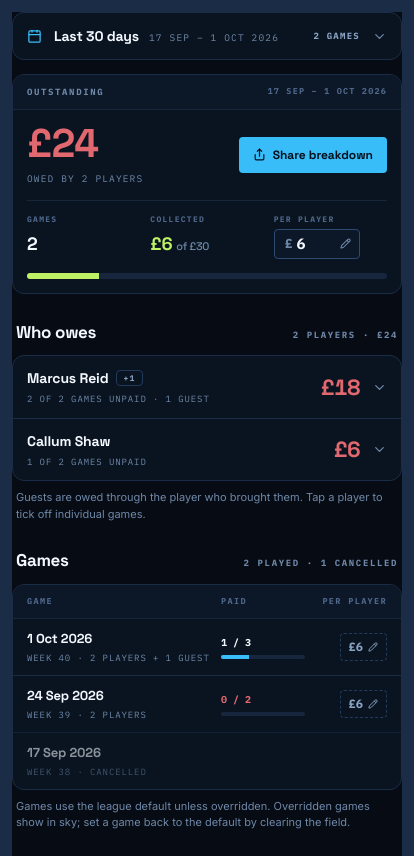
Test: AdminMoneyView › overrides a game cost and clears it with an empty field
Click the button named "Cost per player for week 39" at point(363, 704), box [340, 690, 387, 718]
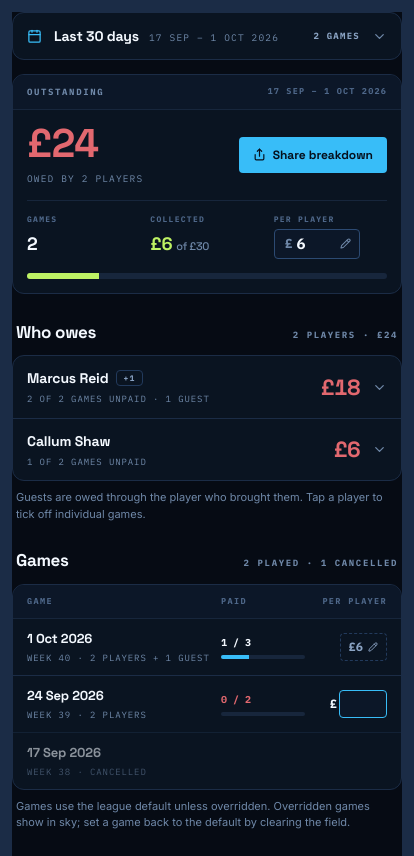
Type "4.5" into the number field named "Cost per player for week 39" at point(363, 704), box [339, 690, 387, 718]
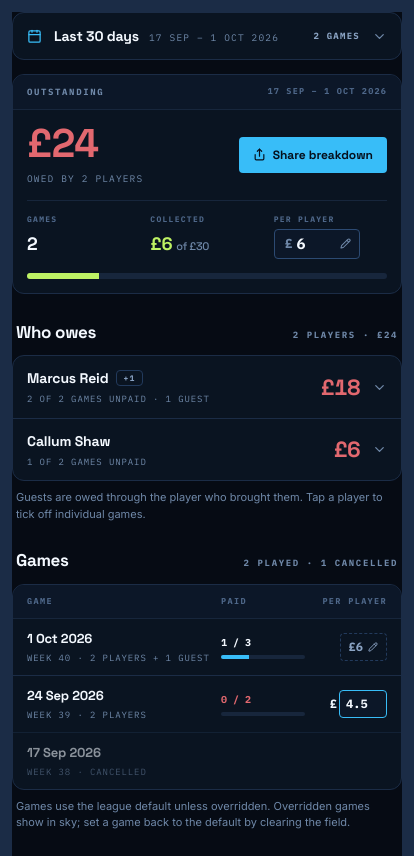
Leave the number field named "Cost per player for week 39", box [339, 690, 387, 718]
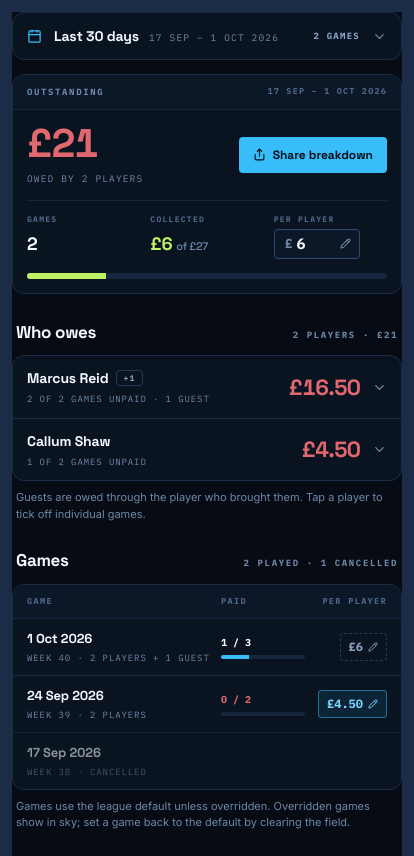
Check: the button named "week 39: £4.50, overridden" is shown, box [318, 690, 387, 718]
